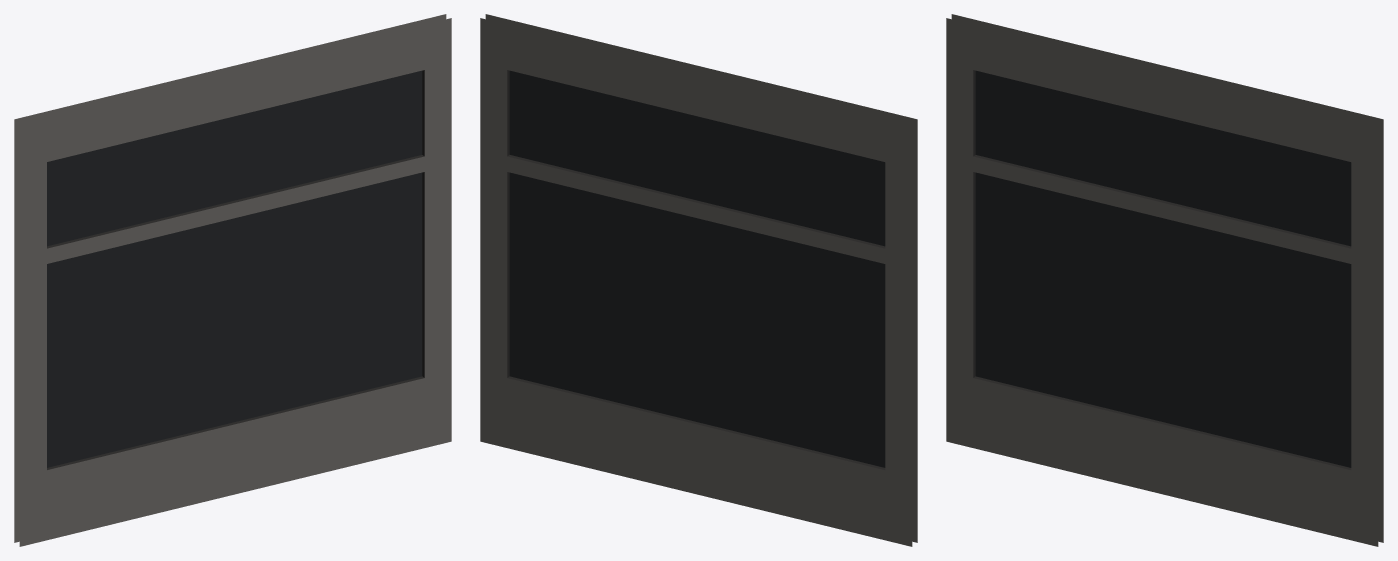
File: SO_Wall_Glass.fbx
3 renders of one model, left to right at view 1: azimuth 30°, elevation 25°; view 2: azimuth 150°, elevation 25°; view 3: azimuth 330°, elevation 25°, orthographic.
Visible parts, largest first — view 1: SO_Glass, SO_Wall_Glass; view 2: SO_Glass, SO_Wall_Glass; view 3: SO_Glass, SO_Wall_Glass.
Part boxes in pixels (<box>): SO_Glass: <box>47,70,422,467</box>; SO_Wall_Glass: <box>14,14,451,546</box>; SO_Glass: <box>509,70,885,467</box>; SO_Wall_Glass: <box>480,14,917,546</box>; SO_Glass: <box>975,70,1351,467</box>; SO_Wall_Glass: <box>946,14,1383,546</box>.
Bounding box in the file's own units: 5 × 4.69 × 0.1097.
